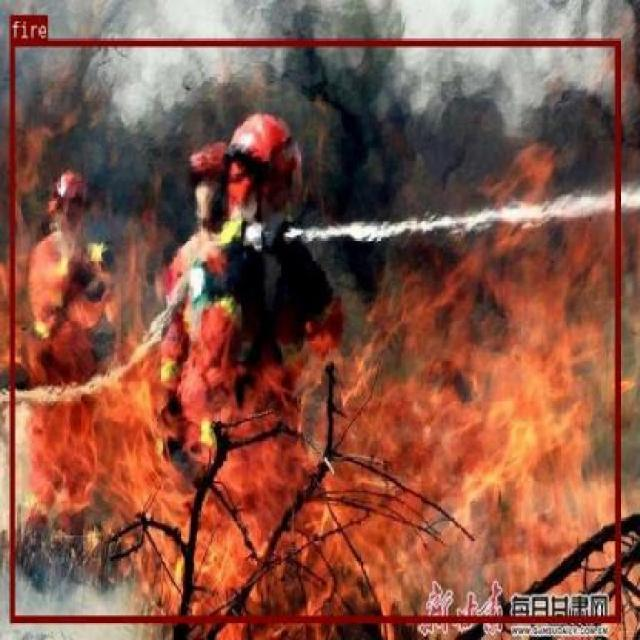Fire: (9, 38, 618, 622)
